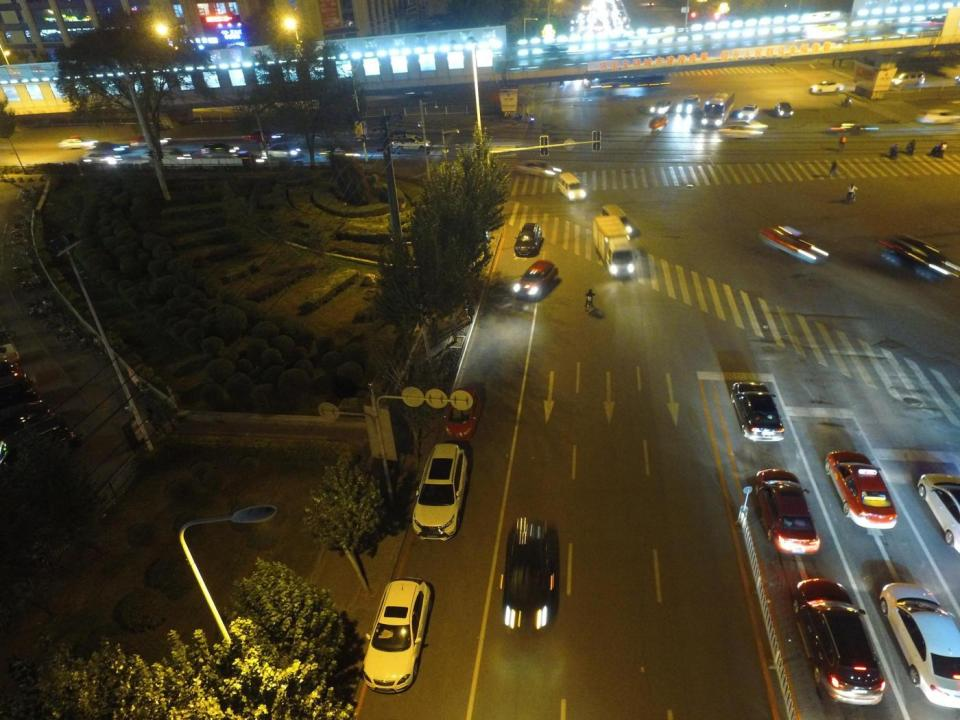bus: (578, 71, 671, 93)
car: (787, 578, 889, 708), (877, 578, 960, 707), (358, 574, 438, 694), (496, 511, 563, 633), (751, 470, 822, 557), (412, 441, 471, 544), (826, 450, 901, 530), (871, 227, 960, 289), (913, 472, 960, 556), (730, 378, 788, 441), (440, 374, 484, 445), (762, 222, 830, 266), (512, 256, 560, 301), (1, 398, 55, 431), (514, 217, 547, 255), (2, 374, 37, 406), (602, 201, 634, 234), (516, 156, 560, 179), (917, 106, 960, 126), (320, 144, 360, 162), (724, 122, 767, 138), (150, 146, 192, 162), (199, 142, 241, 158), (807, 78, 846, 94), (262, 142, 300, 158), (245, 126, 282, 142), (80, 152, 122, 166), (57, 136, 98, 150), (130, 135, 170, 149), (678, 91, 702, 114), (90, 142, 131, 154), (650, 98, 673, 113), (741, 103, 759, 122), (775, 101, 794, 117)
truck: (589, 209, 638, 279), (701, 89, 736, 126)
van: (0, 415, 82, 472), (558, 172, 590, 202), (390, 133, 431, 152), (894, 69, 926, 87)
